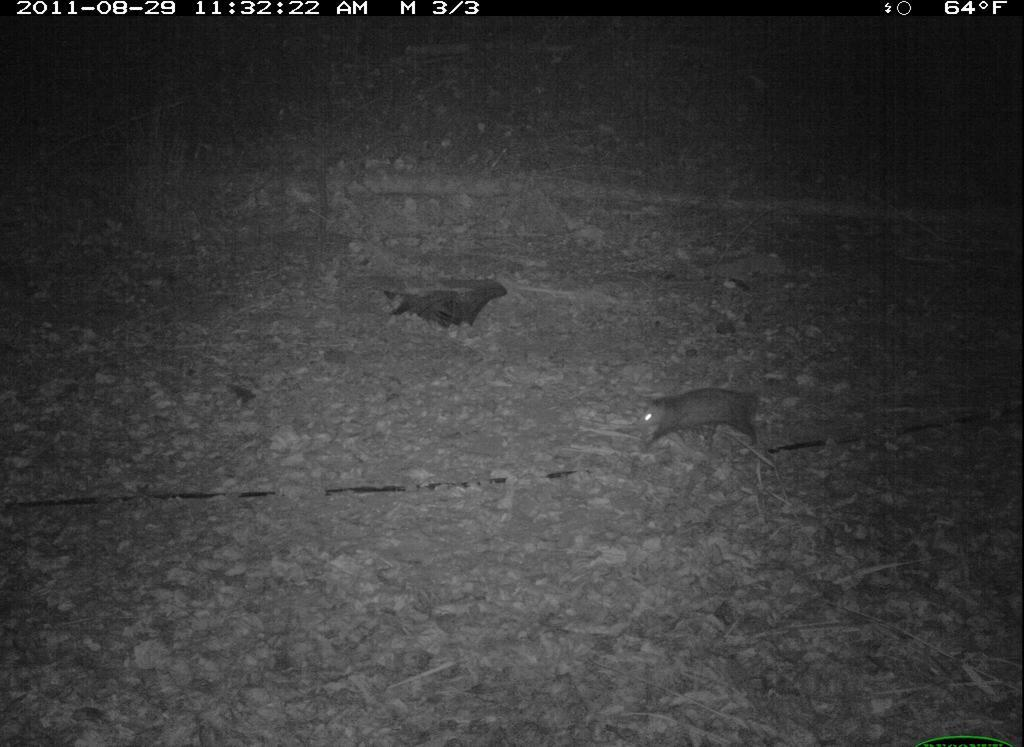opossum: (630, 377, 780, 459)
